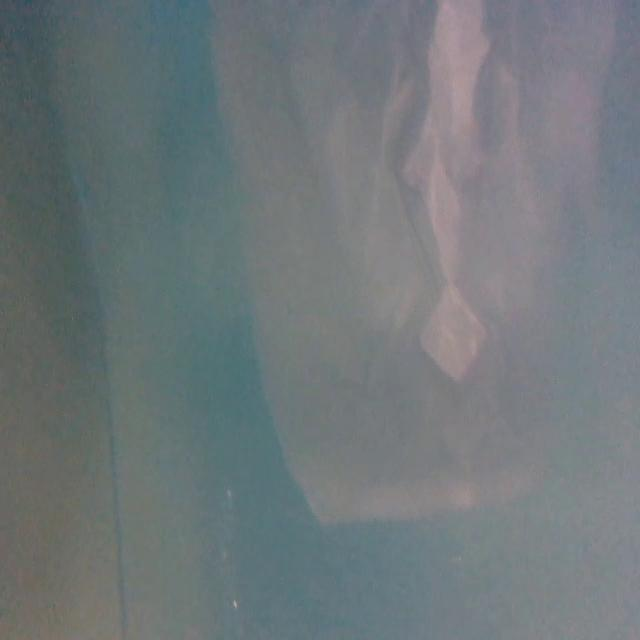plastic bags: (231, 0, 500, 536)
